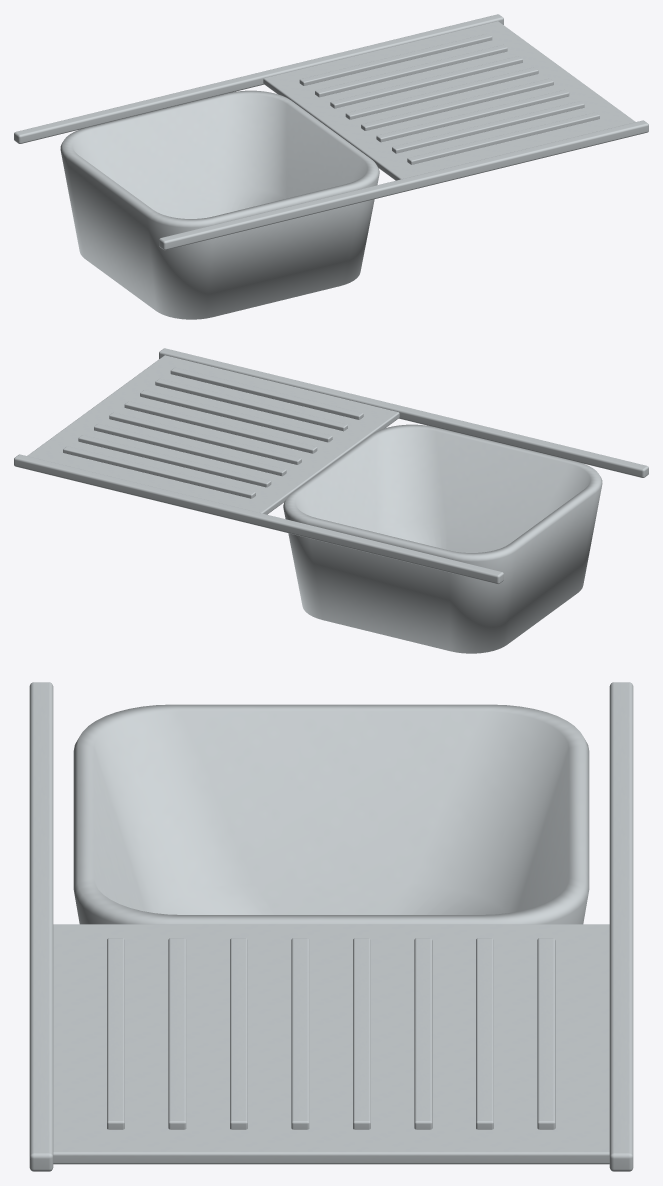
The picture shows the model from 3 angles, top to bottom: view 1: azimuth 30°, elevation 25°; view 2: azimuth 150°, elevation 25°; view 3: azimuth 270°, elevation 25°; orthographic projection. The views are drawn at different scales.
Visible parts, largest first — view 1: Sink | deep steel bowl, Sink | draining board, Sink | perimeter flange, Sink | perimeter flange.001, Draining board | drainage rib.002, Draining board | drainage rib.004, Draining board | drainage rib.007, Draining board | drainage rib.003, Draining board | drainage rib, Draining board | drainage rib.001, Draining board | drainage rib.005, Draining board | drainage rib.006; view 2: Sink | deep steel bowl, Sink | draining board, Sink | perimeter flange.001, Sink | perimeter flange, Draining board | drainage rib.003, Draining board | drainage rib.006, Draining board | drainage rib, Draining board | drainage rib.007, Draining board | drainage rib.001, Draining board | drainage rib.004, Draining board | drainage rib.005, Draining board | drainage rib.002; view 3: Sink | deep steel bowl, Sink | draining board, Sink | perimeter flange, Sink | perimeter flange.001, Draining board | drainage rib.001, Draining board | drainage rib.003, Draining board | drainage rib.005, Draining board | drainage rib.007, Draining board | drainage rib, Draining board | drainage rib.002, Draining board | drainage rib.004, Draining board | drainage rib.006.
Part boxes in pixels (bbox=[...]): Sink | deep steel bowl: bbox=[60, 90, 379, 319]; Sink | draining board: bbox=[263, 21, 635, 180]; Sink | perimeter flange: bbox=[159, 120, 648, 250]; Sink | perimeter flange.001: bbox=[14, 14, 503, 143]; Draining board | drainage rib.002: bbox=[376, 90, 569, 142]; Draining board | drainage rib.004: bbox=[345, 67, 538, 119]; Draining board | drainage rib.007: bbox=[299, 33, 492, 85]; Draining board | drainage rib.003: bbox=[361, 78, 553, 130]; Draining board | drainage rib: bbox=[407, 112, 599, 164]; Draining board | drainage rib.001: bbox=[392, 101, 584, 153]; Draining board | drainage rib.005: bbox=[330, 56, 522, 108]; Draining board | drainage rib.006: bbox=[315, 44, 507, 97]; Sink | deep steel bowl: bbox=[283, 424, 602, 653]; Sink | draining board: bbox=[27, 355, 399, 514]; Sink | perimeter flange.001: bbox=[14, 454, 503, 584]; Sink | perimeter flange: bbox=[159, 348, 648, 477]; Draining board | drainage rib.003: bbox=[124, 401, 317, 453]; Draining board | drainage rib.006: bbox=[78, 435, 271, 487]; Draining board | drainage rib: bbox=[170, 367, 363, 419]; Draining board | drainage rib.007: bbox=[63, 446, 255, 498]; Draining board | drainage rib.001: bbox=[155, 378, 347, 431]; Draining board | drainage rib.004: bbox=[109, 412, 301, 464]; Draining board | drainage rib.005: bbox=[94, 423, 286, 476]; Draining board | drainage rib.002: bbox=[140, 390, 332, 442]; Sink | deep steel bowl: bbox=[73, 704, 589, 924]; Sink | draining board: bbox=[53, 924, 609, 1164]; Sink | perimeter flange: bbox=[29, 682, 53, 1171]; Sink | perimeter flange.001: bbox=[609, 682, 633, 1171]; Draining board | drainage rib.001: bbox=[168, 938, 186, 1129]; Draining board | drainage rib.003: bbox=[291, 938, 309, 1129]; Draining board | drainage rib.005: bbox=[414, 938, 432, 1129]; Draining board | drainage rib.007: bbox=[537, 938, 555, 1129]; Draining board | drainage rib: bbox=[107, 938, 124, 1129]; Draining board | drainage rib.002: bbox=[230, 938, 247, 1129]; Draining board | drainage rib.004: bbox=[353, 938, 370, 1129]; Draining board | drainage rib.006: bbox=[476, 938, 493, 1129].
Size of the model in its own units: 0.994 by 0.2235 by 0.535.
1 material, 1 textured.
